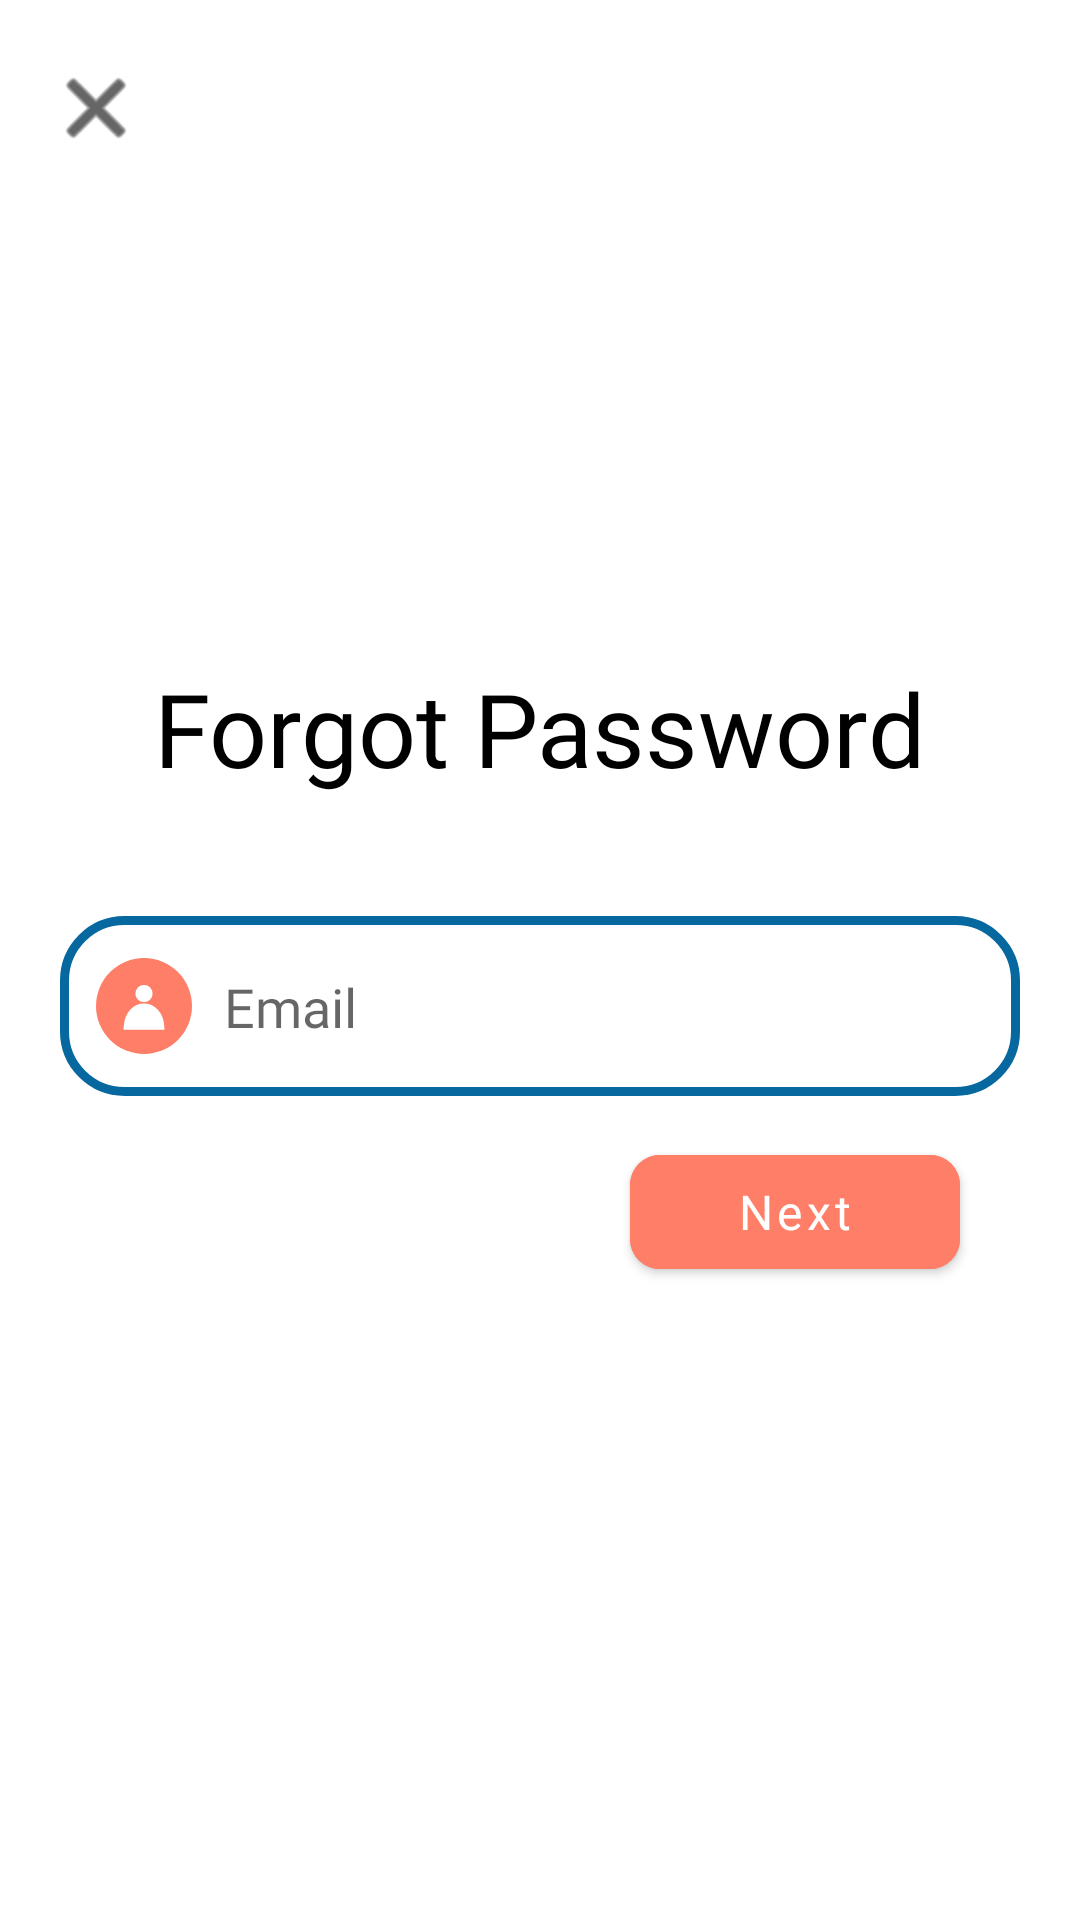

Named icons in this screenshot (1080×1920) and their centers, point (x, y):
close clear cancel: point (96, 108)
secondary user: point (144, 1006)
